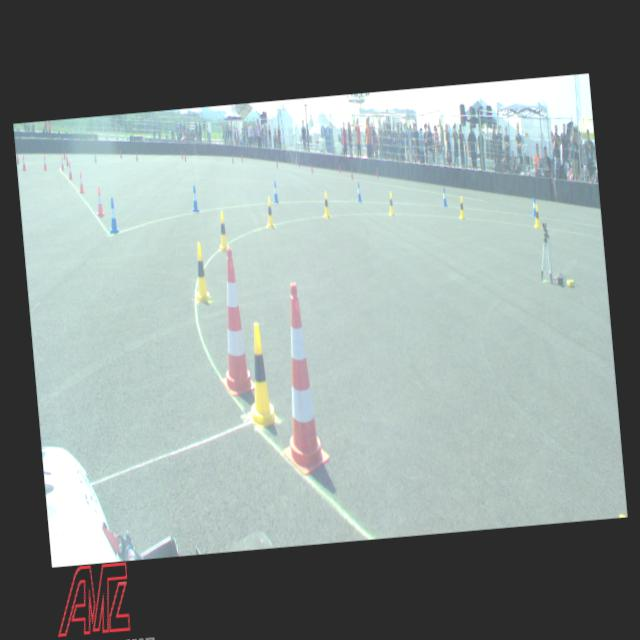blue_cone: (106, 196, 118, 234), (190, 184, 199, 213), (440, 186, 447, 206), (272, 180, 278, 203), (356, 181, 362, 202), (530, 196, 536, 216)
large_orange_cone: (268, 279, 330, 476), (210, 246, 255, 396)
orange_cone: (94, 185, 105, 217), (76, 170, 85, 193), (67, 161, 73, 179), (21, 154, 26, 170), (42, 154, 46, 170), (60, 155, 64, 171)
unknown_cone: (16, 152, 20, 164), (310, 164, 314, 174), (118, 148, 122, 158), (350, 168, 353, 180), (180, 150, 183, 160), (338, 163, 341, 173), (275, 159, 278, 168), (135, 152, 138, 161), (231, 155, 234, 164), (240, 153, 243, 162), (66, 154, 68, 167), (62, 152, 65, 160), (376, 167, 378, 179), (94, 152, 96, 162), (184, 152, 186, 162), (298, 160, 300, 168)
yellow_cone: (239, 320, 279, 430), (190, 242, 210, 304), (216, 210, 230, 252), (264, 196, 274, 229), (322, 190, 331, 218), (457, 196, 465, 220), (532, 204, 540, 228), (387, 190, 394, 216)
